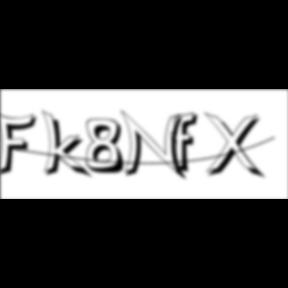8: (86, 117, 132, 176)
F: (1, 110, 44, 178)
N: (121, 109, 191, 183)
X: (204, 112, 268, 182)
f: (172, 111, 204, 175)
k: (42, 108, 94, 181)
